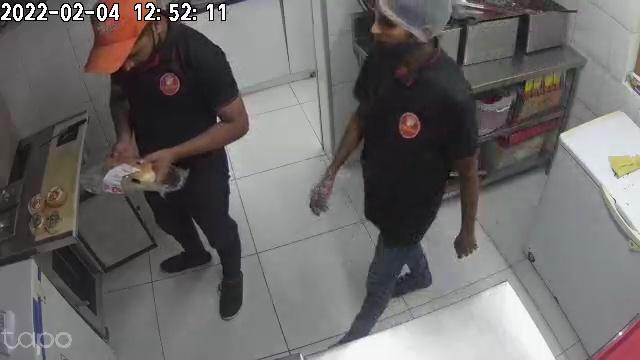no_gloves: (453, 218, 478, 259)
